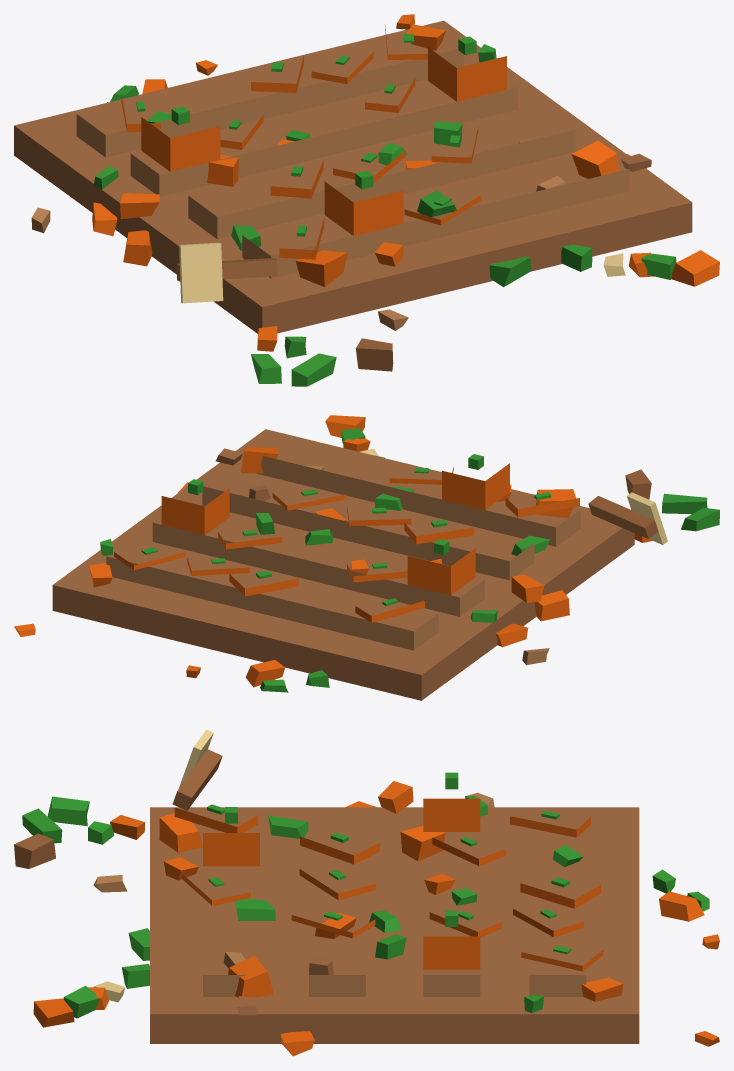
File: field_t1_v3_dmg2.glb
3 renders of one model, top to bottom at view 1: azimuth 30°, elevation 25°; view 2: azimuth 150°, elevation 25°; view 3: azimuth 270°, elevation 25°, orthographic. The views are drawn at different scales.
Parts seen in each view (by area): view 1: field_t1_v3_dmg2; view 2: field_t1_v3_dmg2; view 3: field_t1_v3_dmg2.
Part boxes in pixels (box(x1,y1,x2,y2)): field_t1_v3_dmg2: box(14, 14, 719, 386); field_t1_v3_dmg2: box(14, 415, 719, 700); field_t1_v3_dmg2: box(14, 729, 719, 1056).
Size of the model in its own units: 0.7265 by 0.13 by 0.8656.
Materials: 1 (1 with a texture image).
